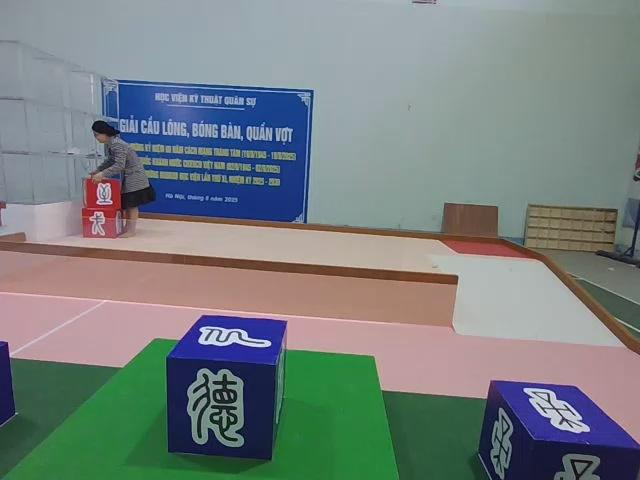R2 Fake Blue: (165, 311, 286, 462)
R2 Real Blue: (479, 382, 639, 480)
